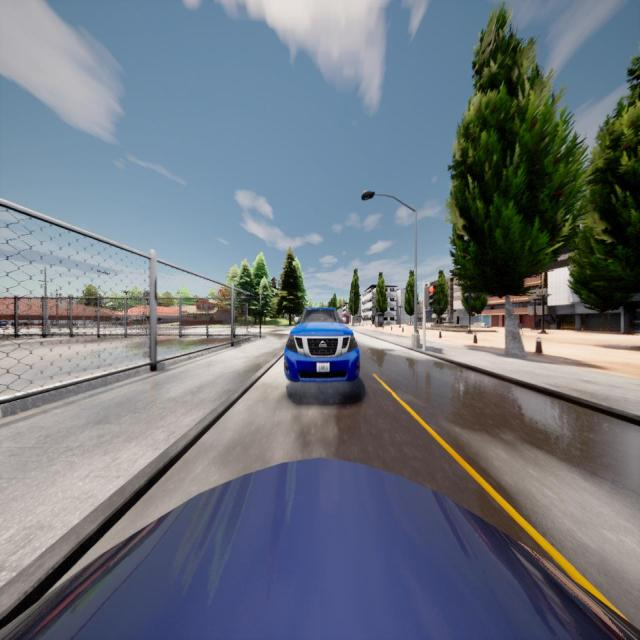Vehicle: (1, 458, 640, 639), (284, 307, 360, 381)
traffic_light: (429, 286, 435, 306), (242, 305, 246, 315)
